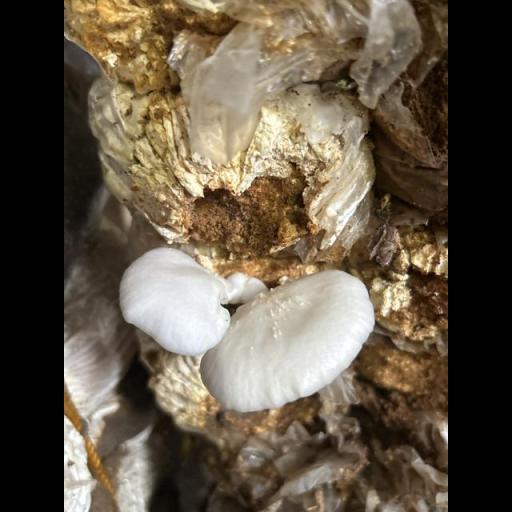White Oyster Mushroom: (122, 245, 375, 411)
